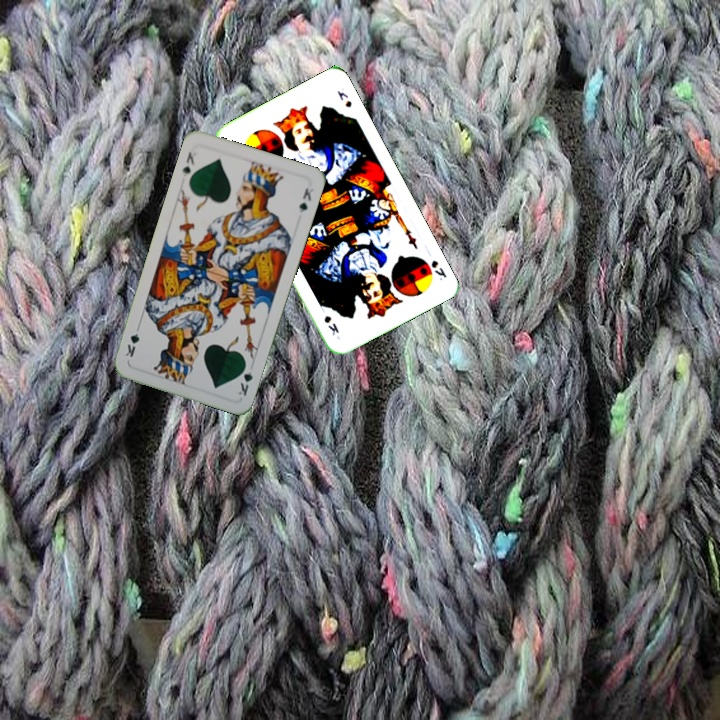GK: (234, 359, 255, 399), (178, 148, 197, 179)
SK: (427, 256, 449, 283)
